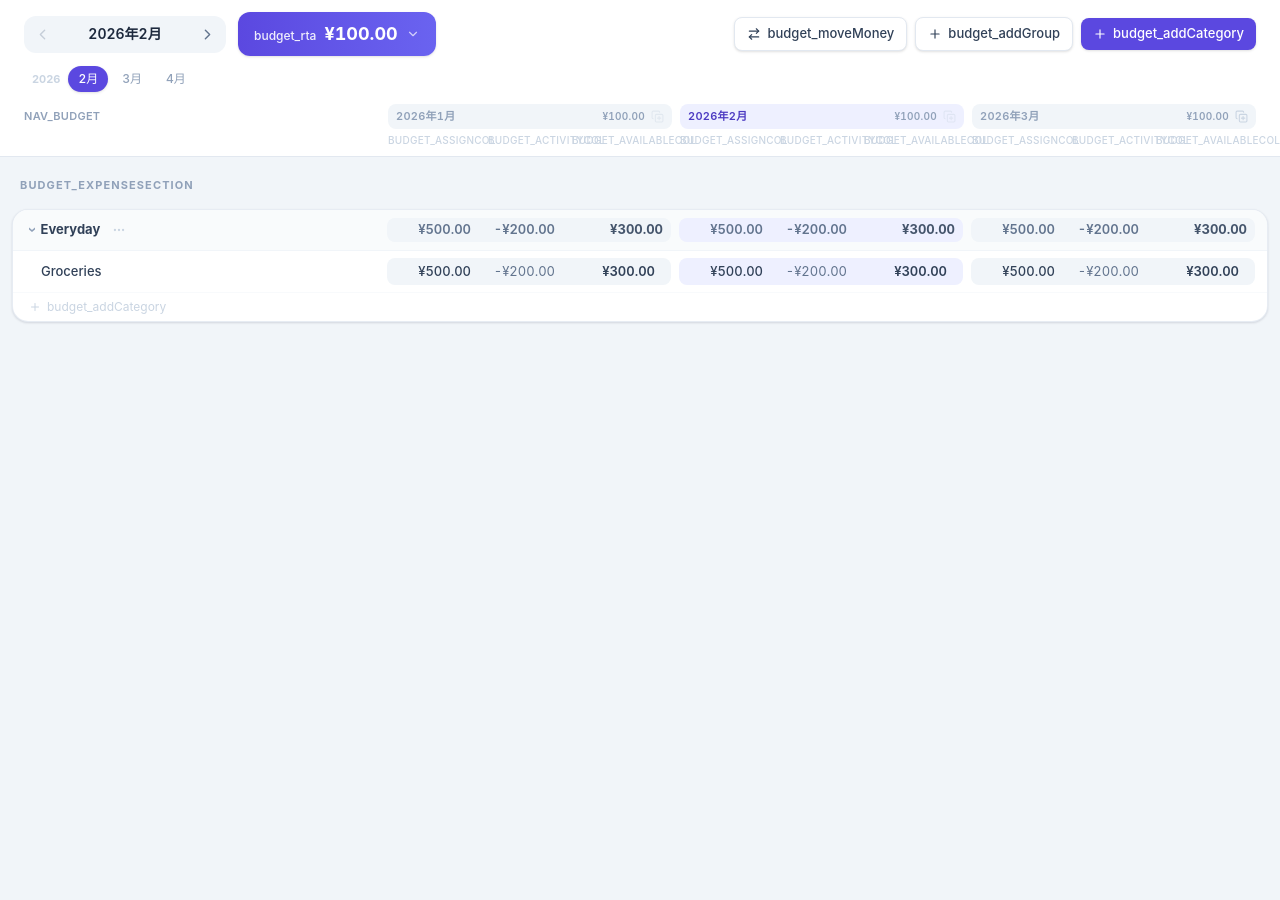
Scenario: BudgetPage Inspector responsive layout › opens the inspector as a slide-over drawer with a backdrop when a category is selected
The width and height of the screenshot is (1280, 900).
Click the text "Groceries" at (71, 270), box x1=41 y1=262 x2=102 y2=278
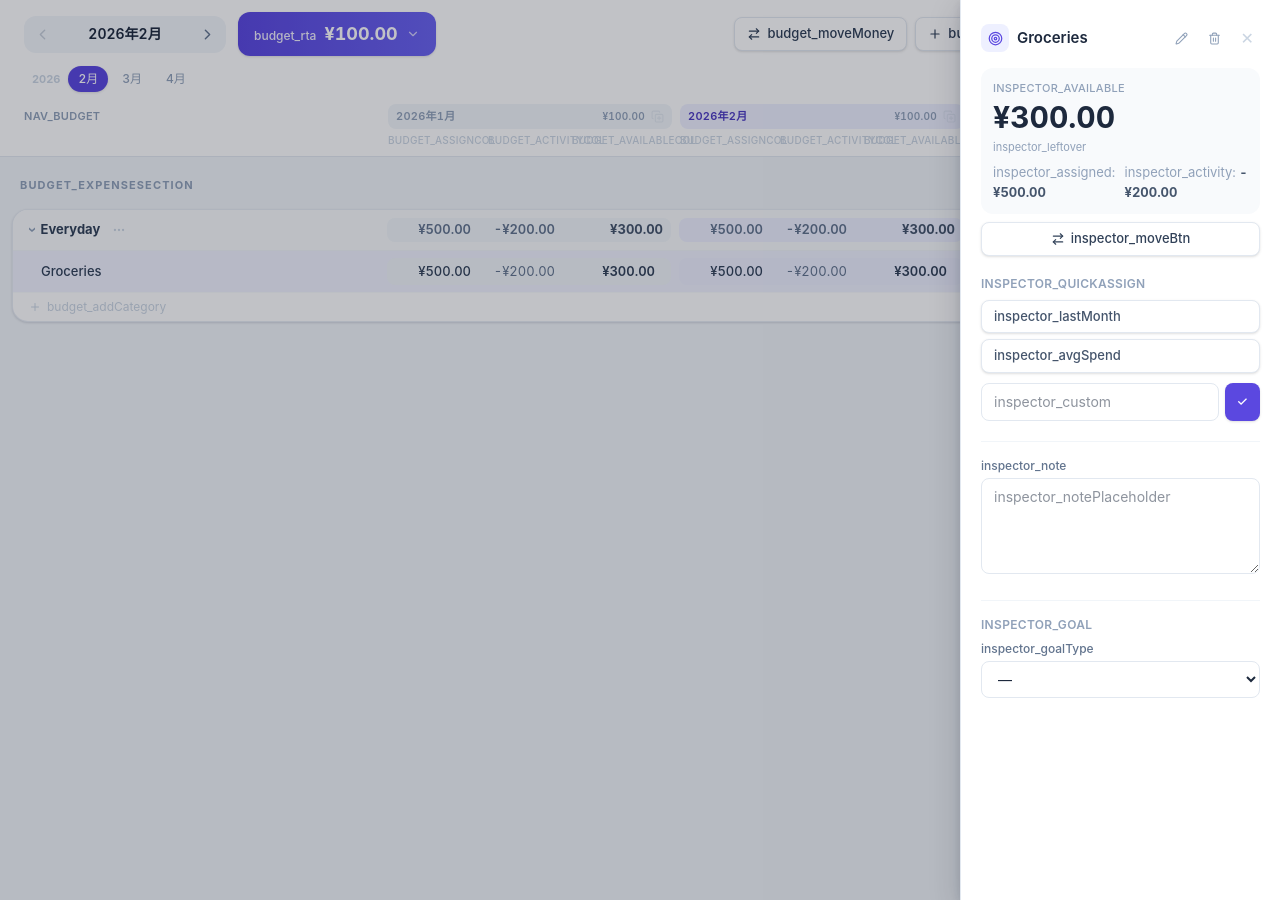
Expected: the dialog shows "Groceries", x1=1017 y1=28 x2=1088 y2=47
